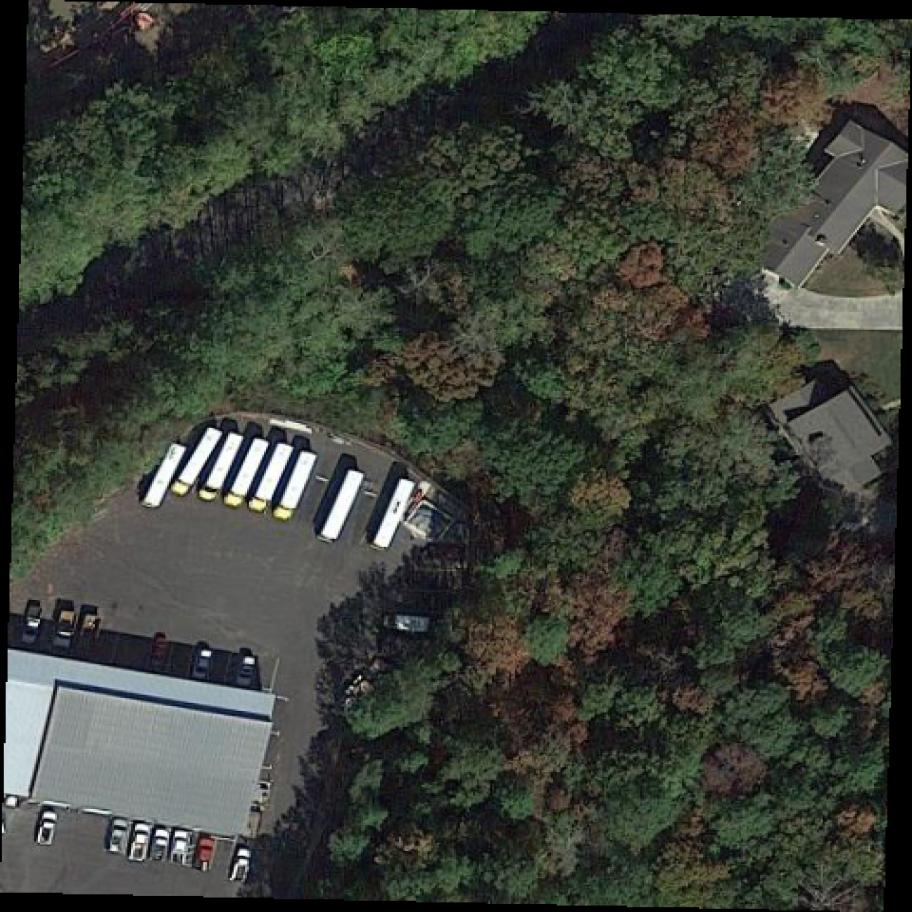large-vehicle: (169, 422, 226, 500), (247, 439, 295, 516), (319, 466, 367, 542), (224, 437, 272, 512), (198, 430, 245, 504), (372, 475, 418, 549), (274, 448, 319, 523), (142, 441, 188, 511)
small-vehicle: (72, 609, 108, 660), (222, 844, 258, 887), (50, 603, 80, 651), (19, 599, 48, 647), (30, 808, 63, 850), (125, 821, 156, 865), (186, 641, 217, 684), (146, 631, 175, 675), (102, 818, 133, 859), (381, 611, 433, 635), (165, 829, 194, 870), (190, 836, 219, 874), (230, 650, 258, 689), (146, 828, 171, 865)
